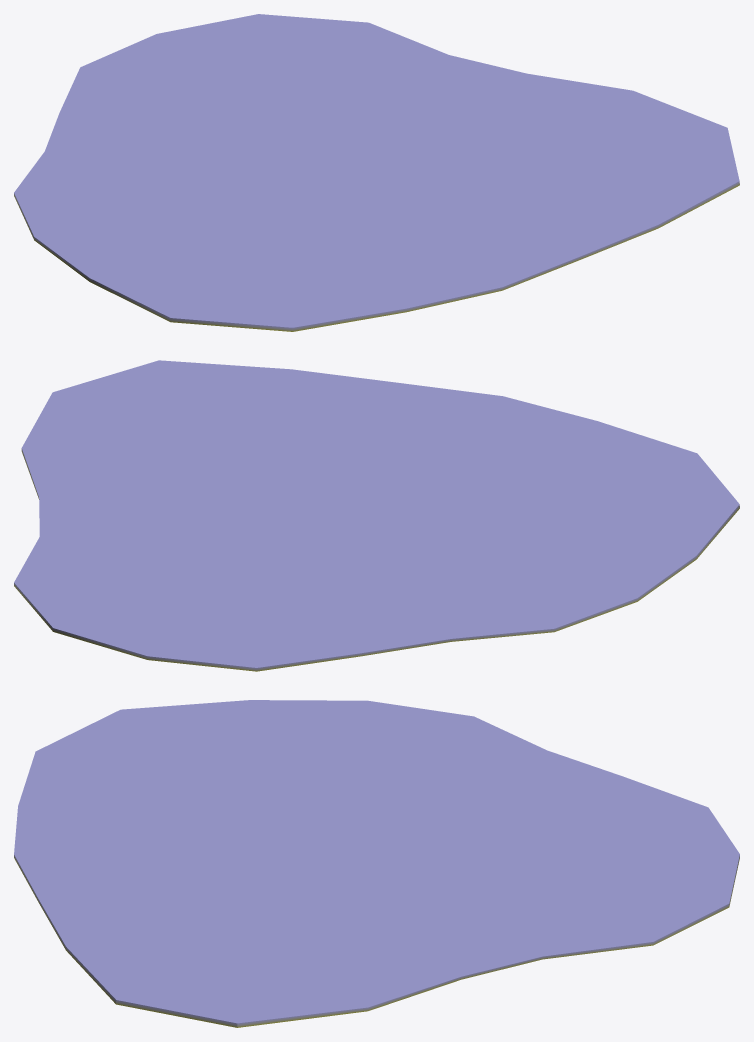
File: env_deco_puddle.glb
The picture shows the model from 3 angles, top to bottom: view 1: azimuth 30°, elevation 25°; view 2: azimuth 150°, elevation 25°; view 3: azimuth 270°, elevation 25°; orthographic projection. The views are drawn at different scales.
Visible parts, largest first — view 1: env_deco_puddle_mesh; view 2: env_deco_puddle_mesh; view 3: env_deco_puddle_mesh.
Boxes of the visible parts, <box> form: env_deco_puddle_mesh: <box>14,14,739,331</box>; env_deco_puddle_mesh: <box>14,360,739,671</box>; env_deco_puddle_mesh: <box>14,700,739,1027</box>.
Bounding box in the file's own units: 0.7392 × 0.00472 × 0.7.
